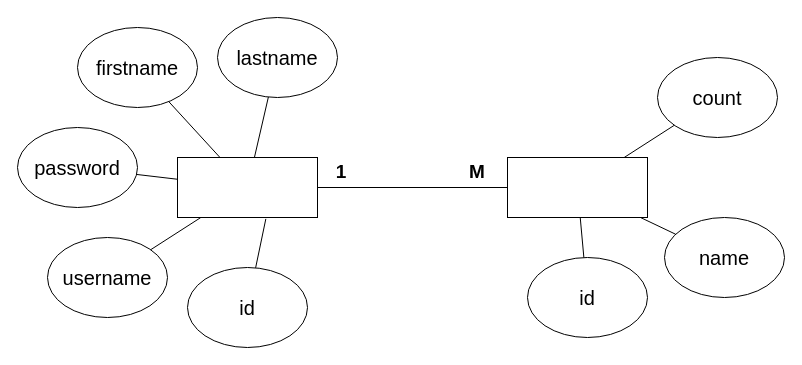
Image size: 802x365. Some labels were removed from this diagram. Each missing label, with the centre of its shape:
"list_pro" goes at (577,187).
"users" goes at (247,187).
